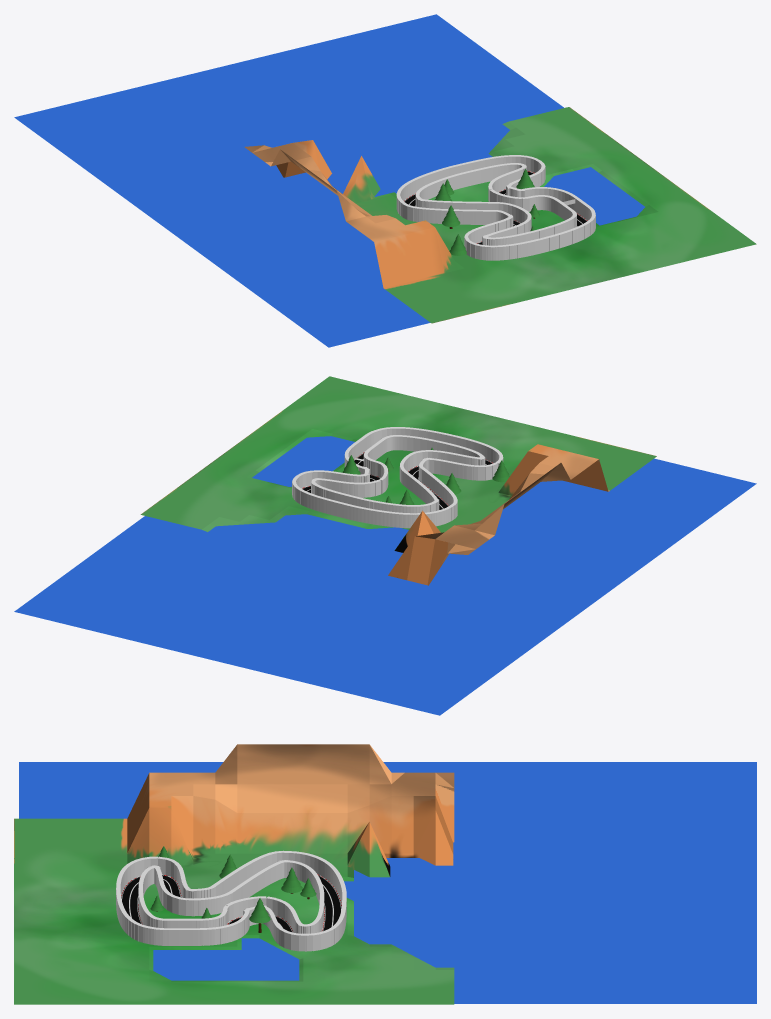
Rendered from race-1.gltf.
The picture shows the model from 3 angles, top to bottom: view 1: azimuth 30°, elevation 25°; view 2: azimuth 150°, elevation 25°; view 3: azimuth 270°, elevation 25°; orthographic projection. The views are drawn at different scales.
Visible parts, largest first — view 1: Plane.002, Plane.001; view 2: Plane.002, Plane.001; view 3: Plane.002, Plane.001, track.
Boxes of the visible parts, x1,y1,x2,y2 form: Plane.002: (14, 14, 644, 347); Plane.001: (244, 107, 756, 323); Plane.002: (14, 436, 756, 715); Plane.001: (140, 376, 656, 585); Plane.002: (19, 762, 756, 1003); Plane.001: (14, 744, 454, 1004); track: (121, 875, 341, 932).
Bounding box in the file's own units: 25.81 × 3.98 × 33.23.
Materials: 7 (3 with a texture image).
